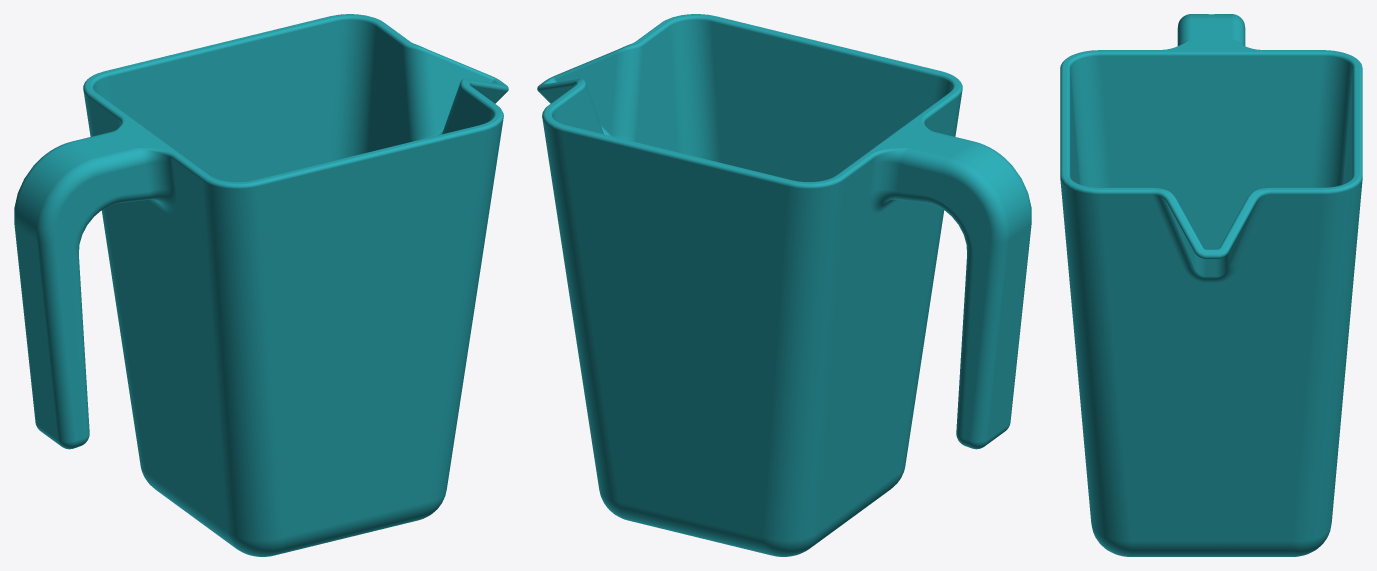
File: Jarra.fbx
3 views of the same model, side by side, from view 1: azimuth 30°, elevation 25°; view 2: azimuth 150°, elevation 25°; view 3: azimuth 270°, elevation 25° (orthographic).
Parts seen in each view (by area): view 1: Body2; view 2: Body2; view 3: Body2.
Boxes of the visible parts, box(x1,y1,x2,y2) form: Body2: box(14, 14, 508, 556); Body2: box(537, 14, 1031, 556); Body2: box(1060, 14, 1362, 556).
Bounding box in the file's own units: 322 × 260 × 180.
